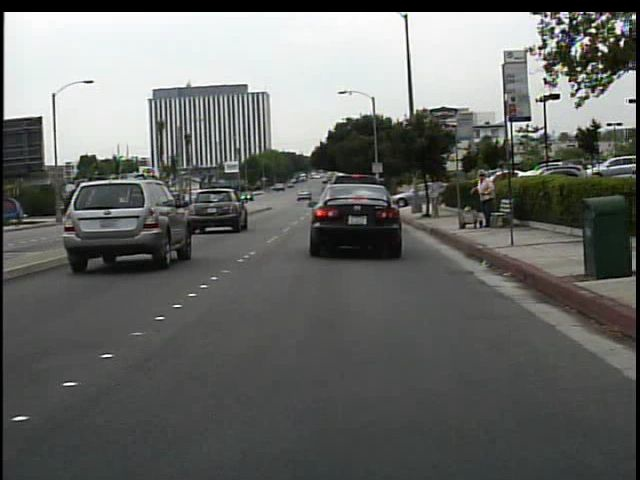person: (470, 168, 499, 230), (426, 170, 451, 219)
